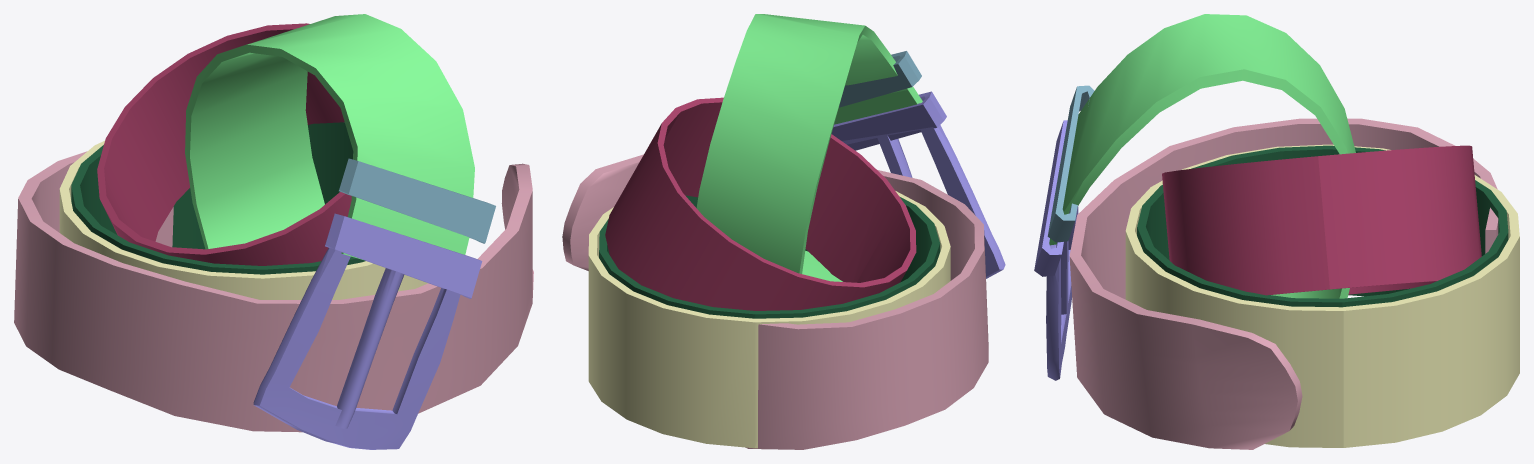
3 views of the same model, side by side, from view 1: azimuth 30°, elevation 25°; view 2: azimuth 150°, elevation 25°; view 3: azimuth 270°, elevation 25° (orthographic). The views are drawn at different scales.
Visible parts, largest first — view 1: split_parent_6, split_parent_1, split_parent_3, split_parent_0, split_parent_2, split_parent_4, polySurface4_lambert3_0; view 2: split_parent_6, split_parent_0, split_parent_1, split_parent_4, split_parent_3, split_parent_2, polySurface4_lambert3_0; view 3: split_parent_4, split_parent_0, split_parent_6, split_parent_1, split_parent_2, split_parent_3, polySurface4_lambert3_0.
Part boxes in pixels (x1,y1,x2,y2): split_parent_6: (14,151,533,432); split_parent_1: (185,14,474,259); split_parent_3: (253,213,482,449); split_parent_0: (97,23,351,265); split_parent_2: (71,122,365,274); split_parent_4: (59,140,427,299); polySurface4_lambert3_0: (339,158,495,243); split_parent_6: (562,154,988,449); split_parent_0: (605,97,916,310); split_parent_1: (696,14,922,281); split_parent_4: (588,191,950,448); split_parent_3: (831,91,1005,278); split_parent_2: (599,195,940,318); polySurface4_lambert3_0: (839,51,921,107); split_parent_4: (1125,144,1519,447); split_parent_0: (1162,145,1481,295); split_parent_6: (1069,118,1498,449); split_parent_1: (1049,14,1355,298); split_parent_2: (1137,145,1508,307); split_parent_3: (1034,120,1078,380); polySurface4_lambert3_0: (1047,85,1094,242).
Size of the model in its own units: 1 by 0.741 by 0.9377.
